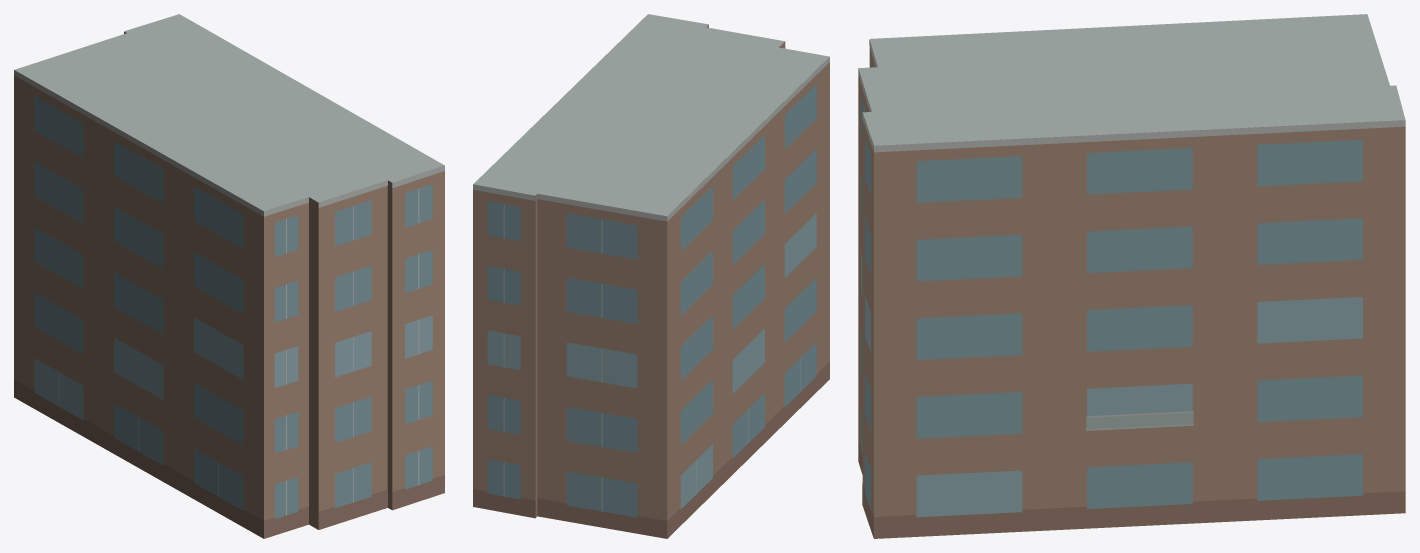
File: survey-upis-32748339.glb
3 renders of one model, left to right at view 1: azimuth 30°, elevation 25°; view 2: azimuth 150°, elevation 25°; view 3: azimuth 270°, elevation 25°, orthographic. The views are drawn at different scales.
Parts seen in each view (by area): view 1: survey-upis-32748339.tmp; view 2: survey-upis-32748339.tmp; view 3: survey-upis-32748339.tmp.
Part boxes in pixels (left/top/right/bottom): survey-upis-32748339.tmp: left=14, top=14, right=444, bottom=538; survey-upis-32748339.tmp: left=473, top=14, right=829, bottom=538; survey-upis-32748339.tmp: left=858, top=14, right=1405, bottom=538.
Size of the model in its own units: 10.59 by 14.7 by 18.56.
